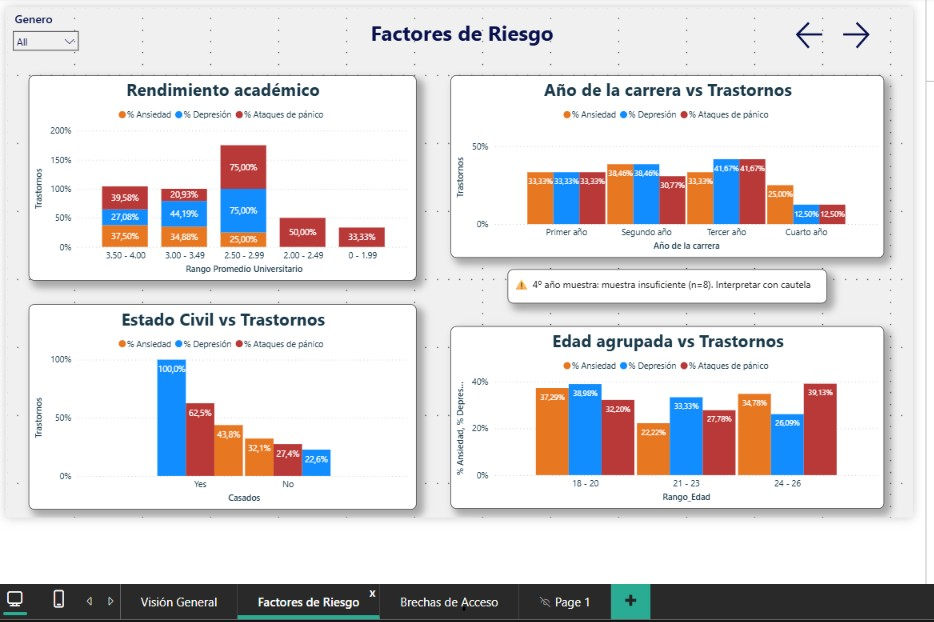

What the dashboard file says about the page in this screenshot:
{"tool":"powerbi","page":{"name":"Factores de Riesgo","canvas":[1280,720],"ordinal":1},"visuals":[{"type":"slicer","fields":{"Values":["Datos Limpios.Genero"]},"box":[0,0,112,64],"z":0},{"type":"columnChart","title":"Rendimiento académico","fields":{"Category":["Datos Limpios.Rango Promedio universitario"],"Y":["Datos Limpios.% Ansiedad","Datos Limpios.% Depresión","Datos Limpios.% Ataques de pánico"]},"box":[32,96,544,288],"z":1000},{"type":"clusteredColumnChart","title":"Estado Civil vs Trastornos","fields":{"Category":["Datos Limpios.Casados"],"Y":["Datos Limpios.% Ansiedad","Datos Limpios.% Depresión","Datos Limpios.% Ataques de pánico"]},"box":[32,416,544,288],"z":2000},{"type":"clusteredColumnChart","title":"Edad agrupada vs Trastornos","fields":{"Y":["Datos Limpios.% Ansiedad","Datos Limpios.% Depresión","Datos Limpios.% Ataques de pánico"],"Category":["Datos Limpios.Rango_Edad"]},"box":[624,448,608,256],"z":3000},{"type":"clusteredColumnChart","title":"Año de la carrera vs Trastornos","fields":{"Y":["Datos Limpios.% Ansiedad","Datos Limpios.% Depresión","Datos Limpios.% Ataques de pánico"],"Category":["Datos Limpios.Año_carrera"]},"box":[624,96,608,256],"z":4000},{"type":"textbox","box":[704,368,448,48],"z":5000},{"type":"textbox","title":"Factores de Riesgo","box":[496,16,288,48],"z":6000},{"type":"actionButton","box":[1104,16,48,48],"z":7000},{"type":"actionButton","box":[1168,16,48,48],"z":8000}]}

Visuals, with their boxes on the page's 1280x720 design canvas (x1, y1, x2, y2). These are canvas units, not pixel positions in the 934x622 screenshot, which may show the page scaled, cropped or inside an application window:
slicer - Datos Limpios.Genero: [0,0,112,64]
"Rendimiento académico" columnChart: [32,96,576,384]
"Estado Civil vs Trastornos" clusteredColumnChart: [32,416,576,704]
"Edad agrupada vs Trastornos" clusteredColumnChart: [624,448,1232,704]
"Año de la carrera vs Trastornos" clusteredColumnChart: [624,96,1232,352]
textbox: [704,368,1152,416]
"Factores de Riesgo" textbox: [496,16,784,64]
actionButton: [1104,16,1152,64]
actionButton: [1168,16,1216,64]
